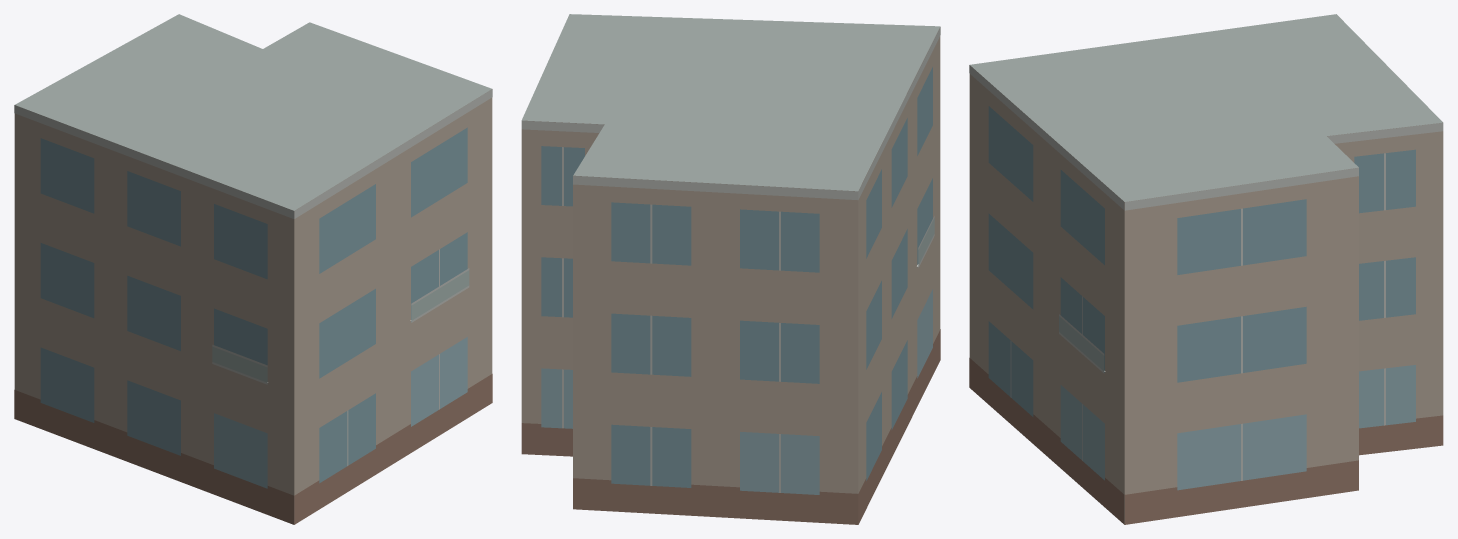
Rendered from survey-upis-32687082.glb.
The picture shows the model from 3 angles, left to right: view 1: azimuth 30°, elevation 25°; view 2: azimuth 150°, elevation 25°; view 3: azimuth 270°, elevation 25°; orthographic projection. The views are drawn at different scales.
Visible parts, largest first — view 1: survey-upis-32687082.tmp; view 2: survey-upis-32687082.tmp; view 3: survey-upis-32687082.tmp.
Boxes of the visible parts, x1,y1,x2,y2 form: survey-upis-32687082.tmp: [14, 14, 492, 524]; survey-upis-32687082.tmp: [521, 14, 940, 524]; survey-upis-32687082.tmp: [969, 14, 1443, 524].
Size of the model in its own units: 11.44 by 9.15 by 12.19.
